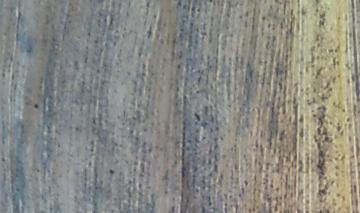tarspot: (313, 135, 326, 185), (315, 104, 329, 135), (288, 8, 296, 35), (307, 45, 316, 66), (145, 23, 154, 40), (314, 66, 325, 78), (88, 139, 96, 154), (278, 128, 286, 143), (305, 96, 317, 106), (320, 135, 333, 144), (330, 55, 337, 71), (298, 126, 306, 140), (296, 112, 305, 124), (270, 34, 278, 47), (192, 111, 201, 122), (297, 159, 304, 173), (317, 205, 329, 213), (180, 166, 187, 179), (192, 134, 201, 144), (320, 91, 328, 102), (335, 121, 342, 133), (318, 11, 327, 20), (317, 20, 326, 29), (242, 178, 250, 188), (318, 188, 326, 198), (277, 80, 283, 93), (300, 5, 307, 16), (264, 40, 271, 51), (108, 15, 115, 26), (79, 79, 88, 87), (324, 79, 330, 91), (175, 61, 182, 71), (352, 183, 358, 194), (107, 167, 115, 175), (196, 75, 203, 84), (347, 133, 352, 145), (10, 72, 16, 82), (32, 102, 39, 110), (335, 15, 342, 23), (199, 30, 207, 37), (201, 22, 208, 30), (128, 127, 135, 135), (224, 24, 231, 32), (188, 21, 196, 28), (146, 146, 153, 154), (200, 204, 206, 213), (331, 75, 337, 84), (159, 37, 165, 46), (12, 82, 18, 91), (141, 61, 146, 71), (175, 1, 182, 8), (73, 126, 80, 133), (136, 182, 143, 189), (161, 21, 168, 28), (184, 145, 191, 152), (262, 58, 269, 65), (213, 125, 220, 132), (140, 71, 147, 78), (145, 1, 151, 9), (91, 118, 97, 126), (87, 159, 93, 167), (345, 115, 351, 123), (200, 135, 206, 143), (193, 128, 201, 134), (170, 205, 176, 213), (304, 198, 310, 206), (278, 20, 283, 29), (266, 22, 271, 31), (244, 9, 249, 18), (346, 76, 351, 85), (350, 1, 355, 10), (56, 142, 62, 149), (1, 156, 7, 163), (315, 42, 321, 49), (327, 48, 334, 54), (260, 15, 266, 22), (94, 67, 100, 74), (178, 26, 185, 32), (185, 138, 192, 144), (195, 89, 201, 96), (237, 13, 243, 20), (207, 38, 213, 45), (228, 32, 234, 39), (141, 140, 147, 147), (298, 69, 304, 76), (112, 39, 117, 47), (336, 59, 341, 67), (134, 135, 139, 143), (195, 7, 201, 13), (93, 38, 99, 44), (272, 1, 281, 5), (205, 54, 211, 60), (114, 28, 120, 34), (152, 13, 157, 20), (186, 5, 191, 12), (86, 30, 91, 37), (209, 126, 213, 134), (1, 72, 6, 78), (182, 3, 186, 10), (191, 6, 195, 12), (208, 1, 214, 4), (313, 1, 319, 4)
